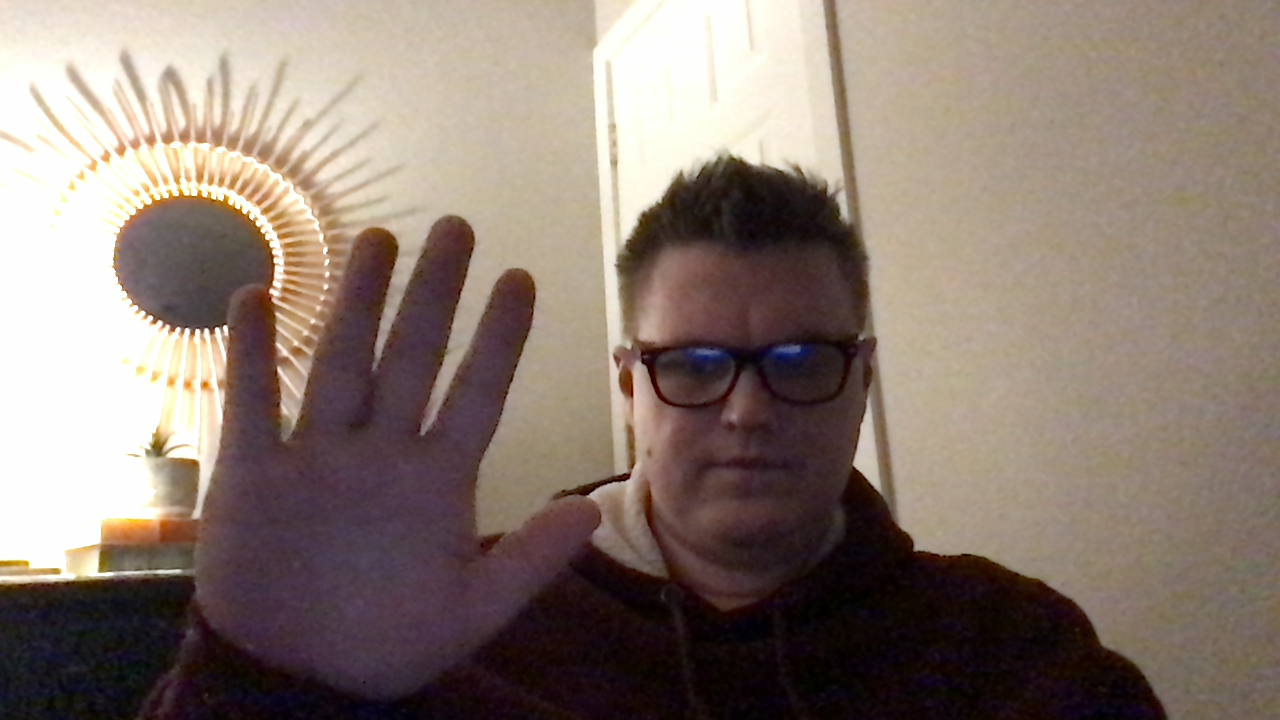hello: (193, 205, 607, 693)
